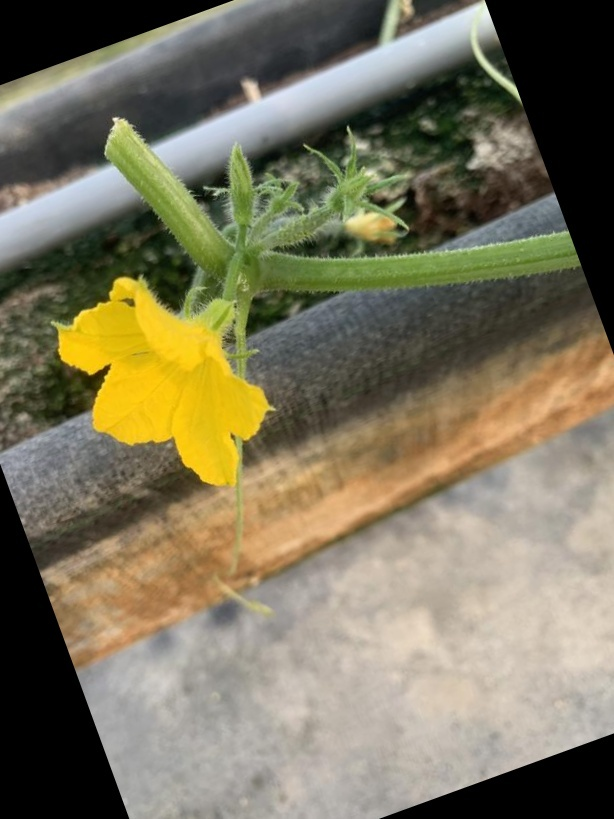flowering: (45, 270, 286, 493)
